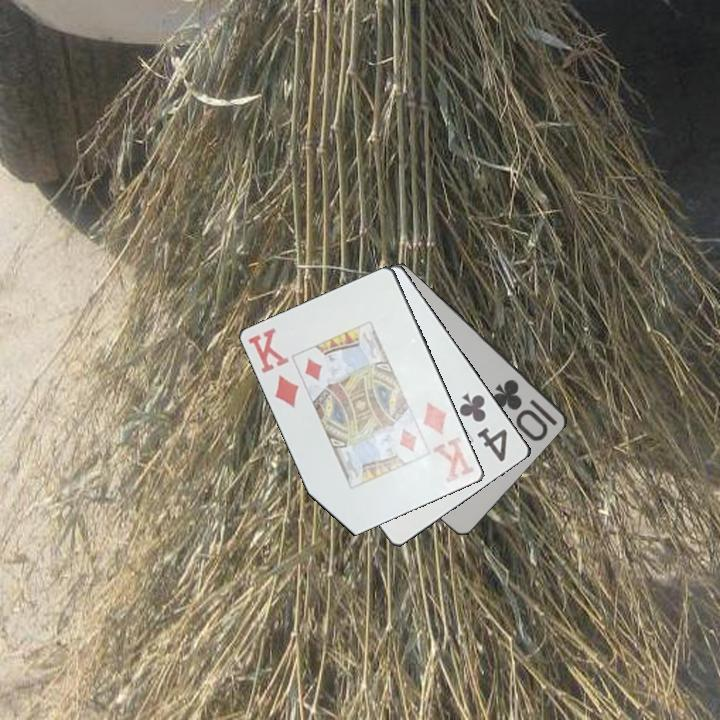4c: (456, 389, 511, 465)
Kd: (419, 399, 477, 486), (245, 324, 302, 412)
Tc: (490, 376, 561, 443)
